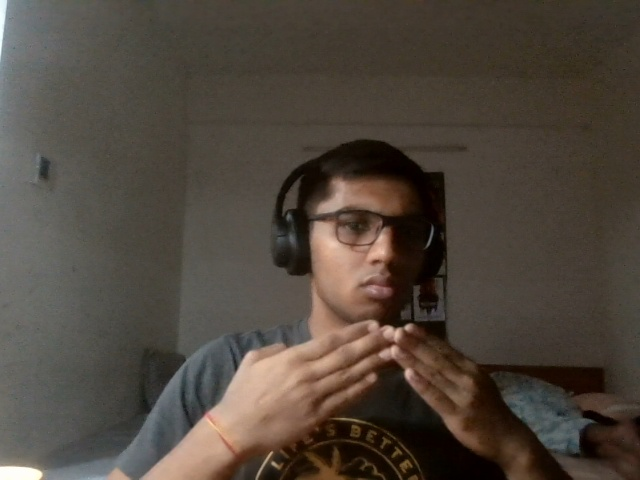thankyou: (216, 323, 536, 456)
